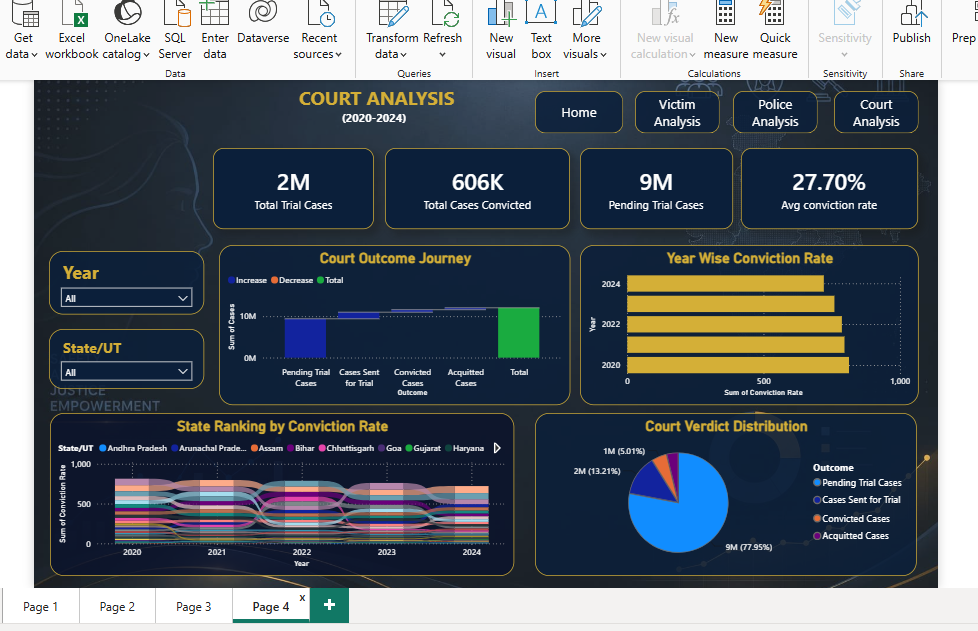

Layout of this report page (visuals, bound fields, positions):
{"tool":"powerbi","page":{"name":"Page 4","canvas":[1280,720],"ordinal":3},"visuals":[{"type":"textbox","box":[253.3,1.7,456.7,86.7],"z":0},{"type":"cardVisual","fields":{"Data":["Sum(Court_State_Wise_Data.Cases_Sent_for_Trial)"]},"box":[253.7,96.4,228.2,114.8],"z":1000},{"type":"cardVisual","fields":{"Data":["Court_Crime_Wise_data.Avg conviction rate"]},"box":[1002,96.4,250.9,114.8],"z":2000},{"type":"slicer","fields":{"Values":["Acts_Data.Year"]},"box":[21.7,241.7,220,90],"z":3000},{"type":"slicer","fields":{"Values":["Dim_State.State/UT"]},"box":[21.7,353.3,220,85],"z":4000},{"type":"shape","box":[710,15,125,60],"z":5000},{"type":"shape","box":[851.7,15,120,60],"z":6000},{"type":"shape","box":[990,15,120,60],"z":7000},{"type":"shape","box":[1133.3,15,120,60],"z":8000},{"type":"cardVisual","fields":{"Data":["Sum(Court_State_Wise_Data.Cases_Pending_trial_Previous_year)"]},"box":[773.9,96.4,216.9,114.8],"z":9000},{"type":"cardVisual","fields":{"Data":["Sum(Court_State_Wise_Data.Cases_Convicted)"]},"box":[497.5,96.4,262.2,114.8],"z":10000},{"type":"waterfallChart","title":"Court Outcome Journey","fields":{"Category":["ribbon.Outcome"],"Y":["Sum(ribbon.Cases)"]},"box":[261.7,233.3,498.3,226.7],"z":11000},{"type":"barChart","title":"Year Wise Conviction Rate","fields":{"Category":["Court_State_Wise_Data.Year"],"Y":["Sum(Court_State_Wise_Data.Conviction Rate )"]},"box":[773.9,233.9,480.5,226.8],"z":12000},{"type":"pieChart","title":"Court Verdict Distribution","fields":{"Category":["ribbon.Outcome"],"Y":["Sum(ribbon.Cases)"]},"box":[710.1,472,541.4,231],"z":13000},{"type":"ribbonChart","title":"State Ranking by Conviction Rate","fields":{"Category":["Court_State_Wise_Data.Year"],"Series":["Court_State_Wise_Data.State/UT"],"Y":["Sum(Court_State_Wise_Data.Conviction Rate )"]},"box":[22.7,472,657.6,231],"z":14000}]}

Visuals, with their boxes on the page's 1280x720 design canvas (x1, y1, x2, y2). These are canvas units, not pixel positions in the 978x631 screenshot, which may show the page scaled, cropped or inside an application window:
textbox: bbox=(253, 2, 710, 88)
cardVisual - Sum(Court_State_Wise_Data.Cases_Sent_for_Trial): bbox=(254, 96, 482, 211)
cardVisual - Court_Crime_Wise_data.Avg conviction rate: bbox=(1002, 96, 1253, 211)
slicer - Acts_Data.Year: bbox=(22, 242, 242, 332)
slicer - Dim_State.State/UT: bbox=(22, 353, 242, 438)
shape: bbox=(710, 15, 835, 75)
shape: bbox=(852, 15, 972, 75)
shape: bbox=(990, 15, 1110, 75)
shape: bbox=(1133, 15, 1253, 75)
cardVisual - Sum(Court_State_Wise_Data.Cases_Pending_trial_Previous_year): bbox=(774, 96, 991, 211)
cardVisual - Sum(Court_State_Wise_Data.Cases_Convicted): bbox=(498, 96, 760, 211)
"Court Outcome Journey" waterfallChart: bbox=(262, 233, 760, 460)
"Year Wise Conviction Rate" barChart: bbox=(774, 234, 1254, 461)
"Court Verdict Distribution" pieChart: bbox=(710, 472, 1252, 703)
"State Ranking by Conviction Rate" ribbonChart: bbox=(23, 472, 680, 703)
